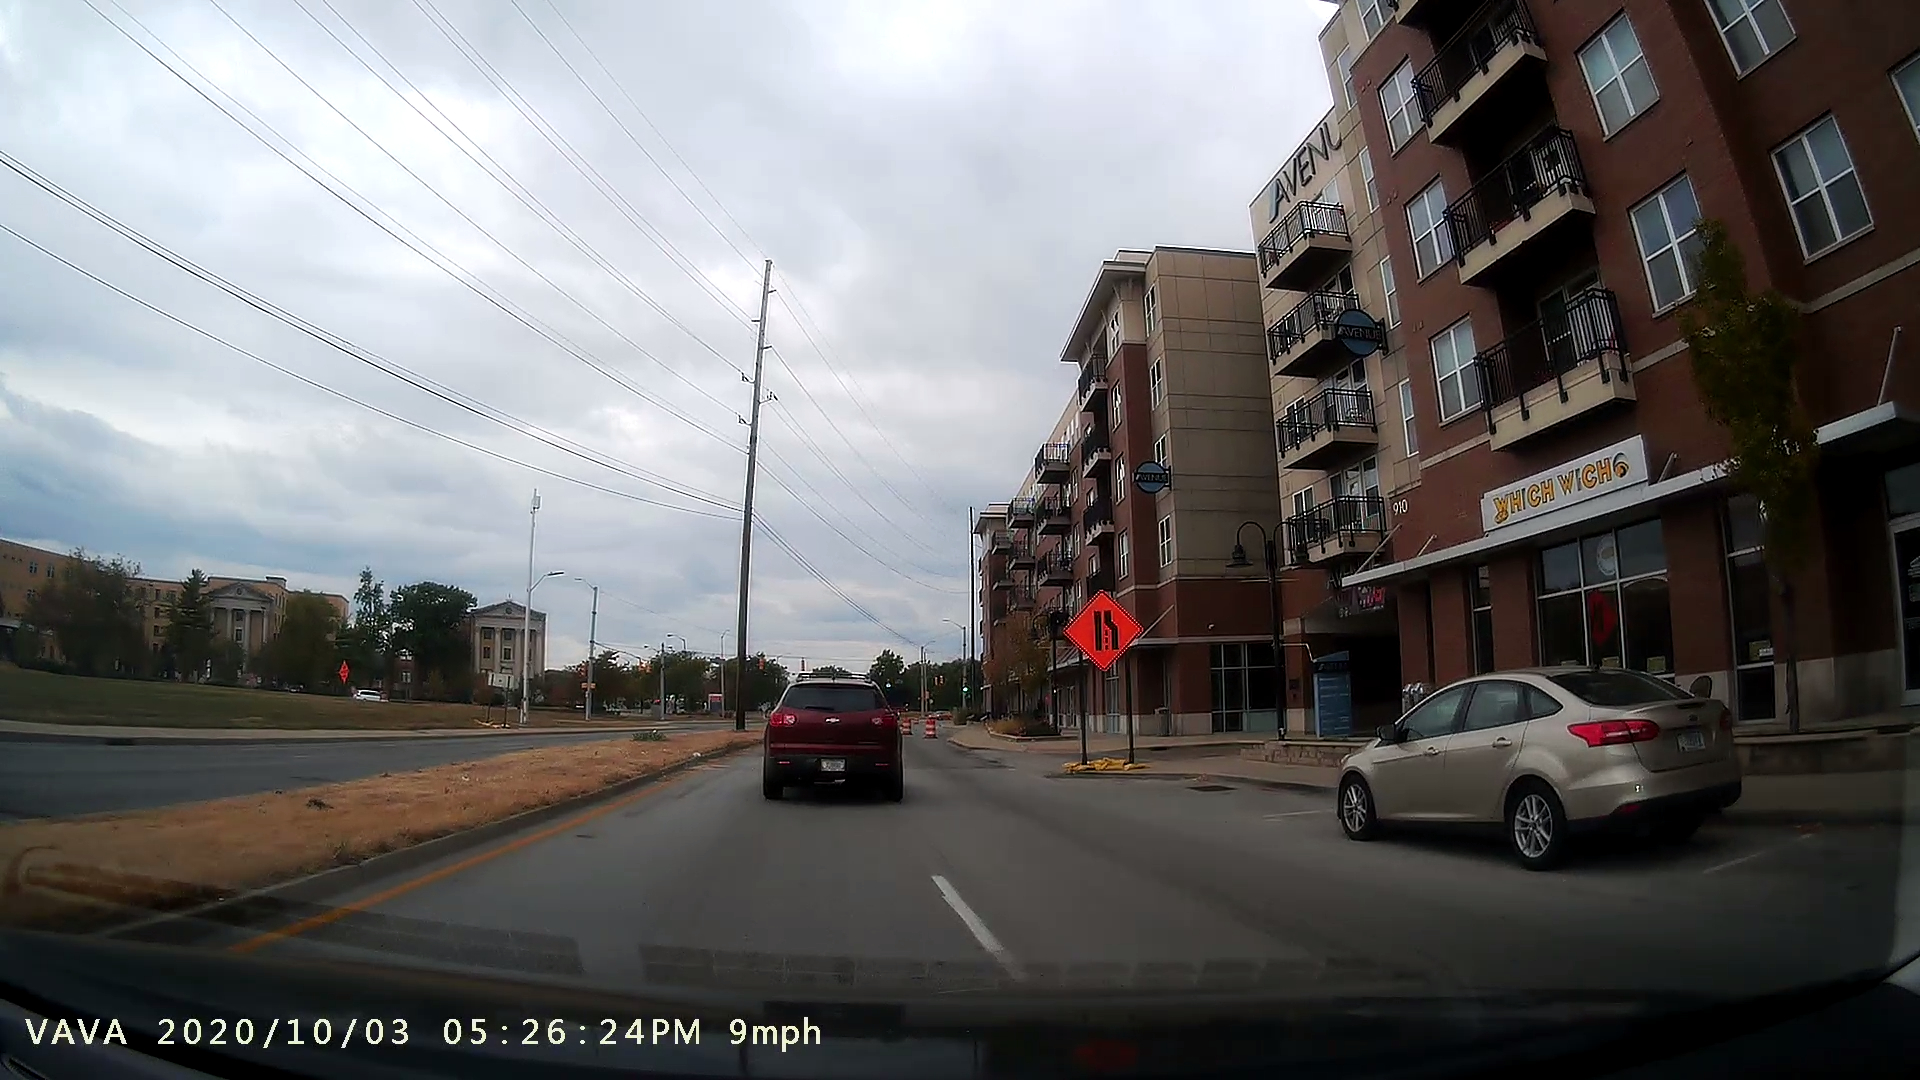ttcs_right_lane_reduction: (1047, 568, 1160, 765)
